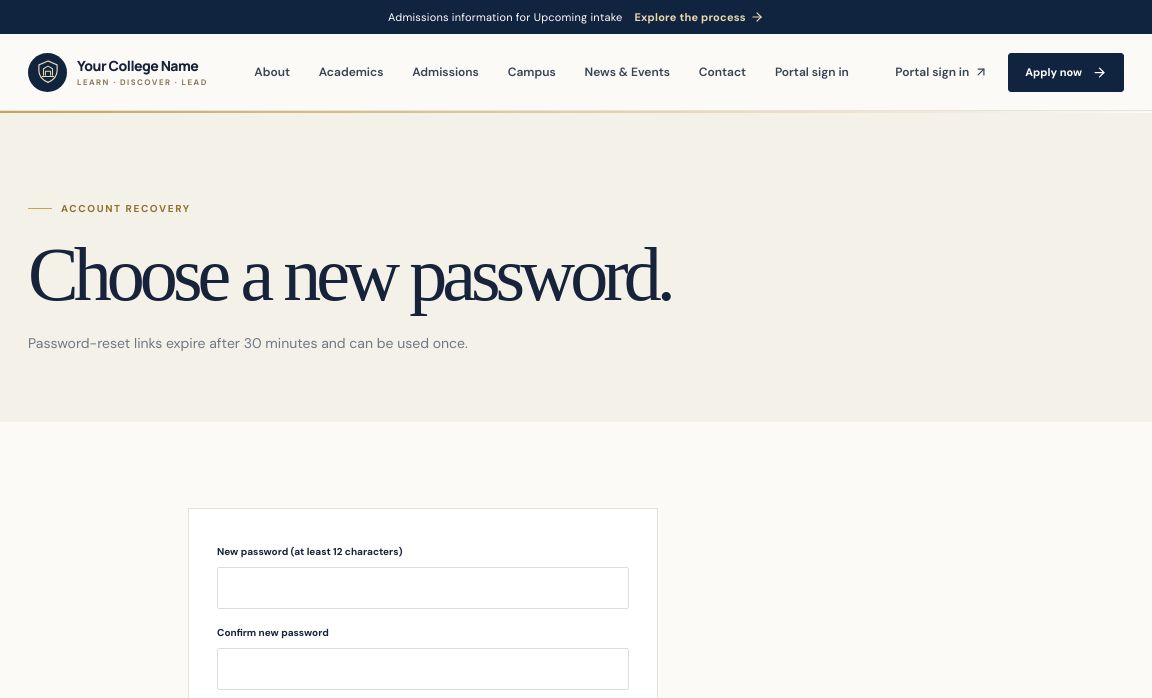
Test: college website › does not submit a password reset when the confirmation differs
Type "new-secure-password-2026" into the password field labelled "New password (at least 12 characters)".
click(423, 588); type("new-secure-password-2026")  # box [217,567,629,609]
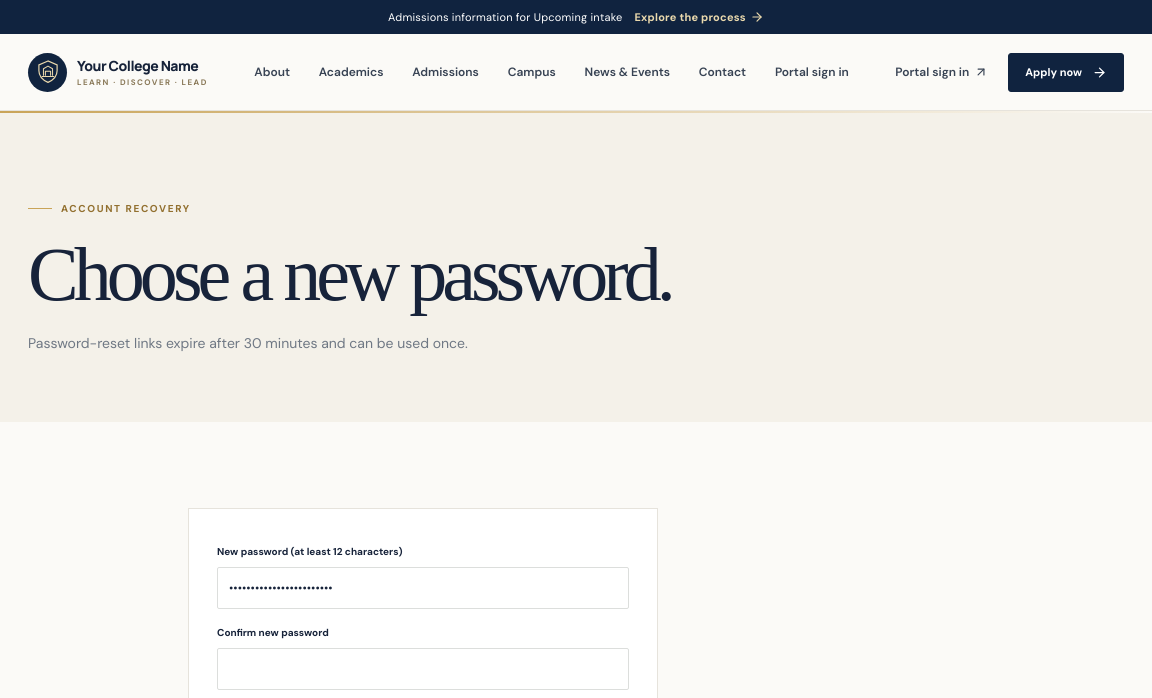
Type "different-secure-password-2026" into the password field labelled "Confirm new password".
click(423, 669); type("different-secure-password-2026")  # box [217,648,629,690]
(page scrolled)
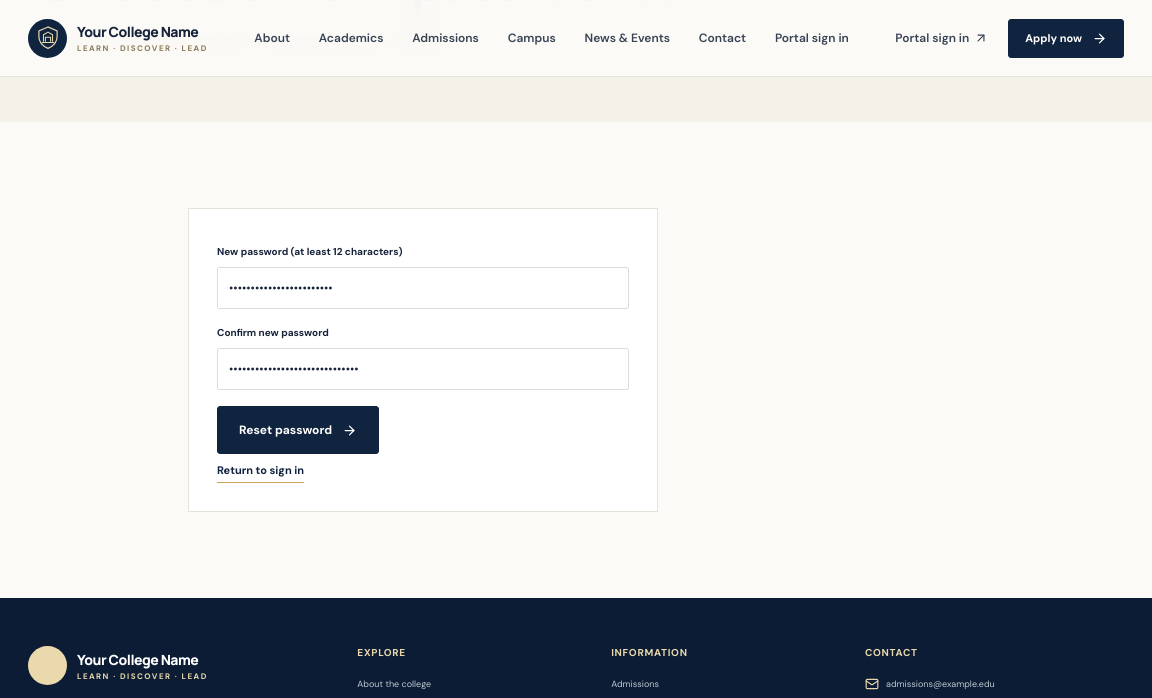
Submit the form "Reset password", box [188,208,658,512]
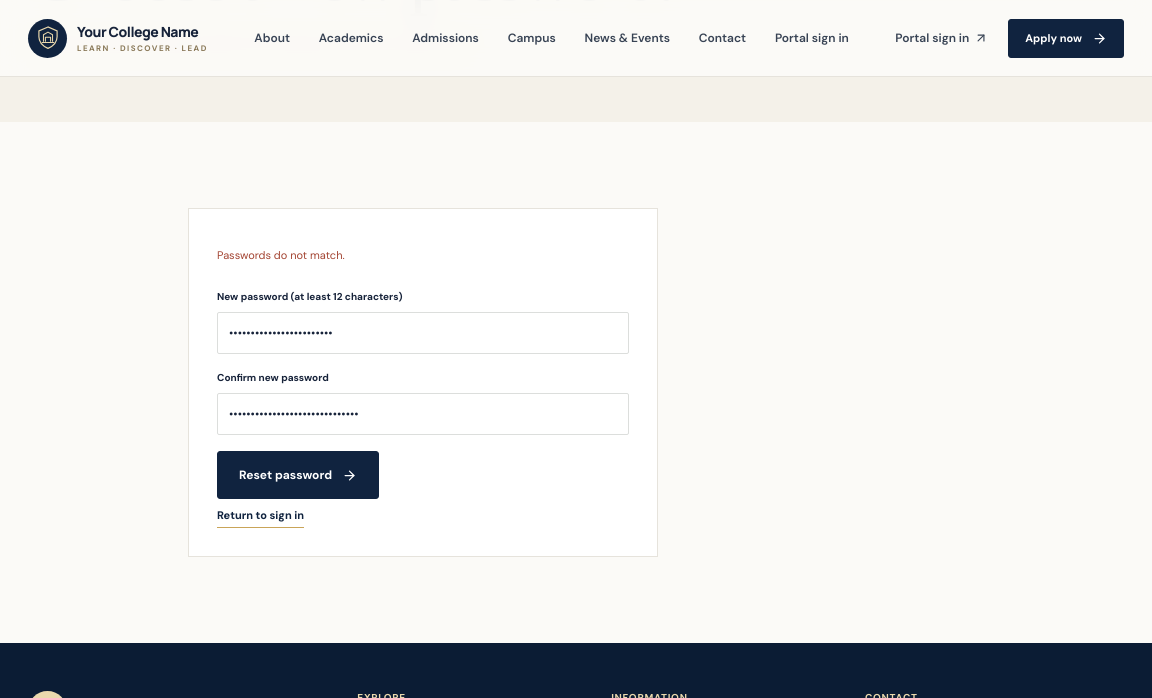
Check: the message reads "Passwords do not match.", box [217,248,345,262]
